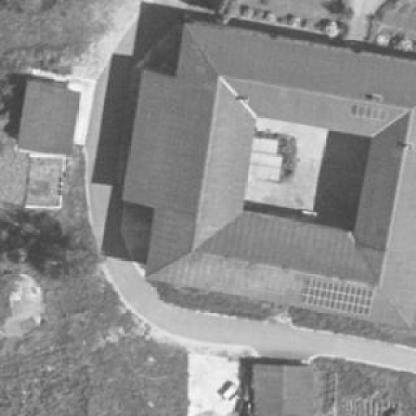solar-pv-panel: (301, 277, 373, 316), (349, 104, 385, 121)
